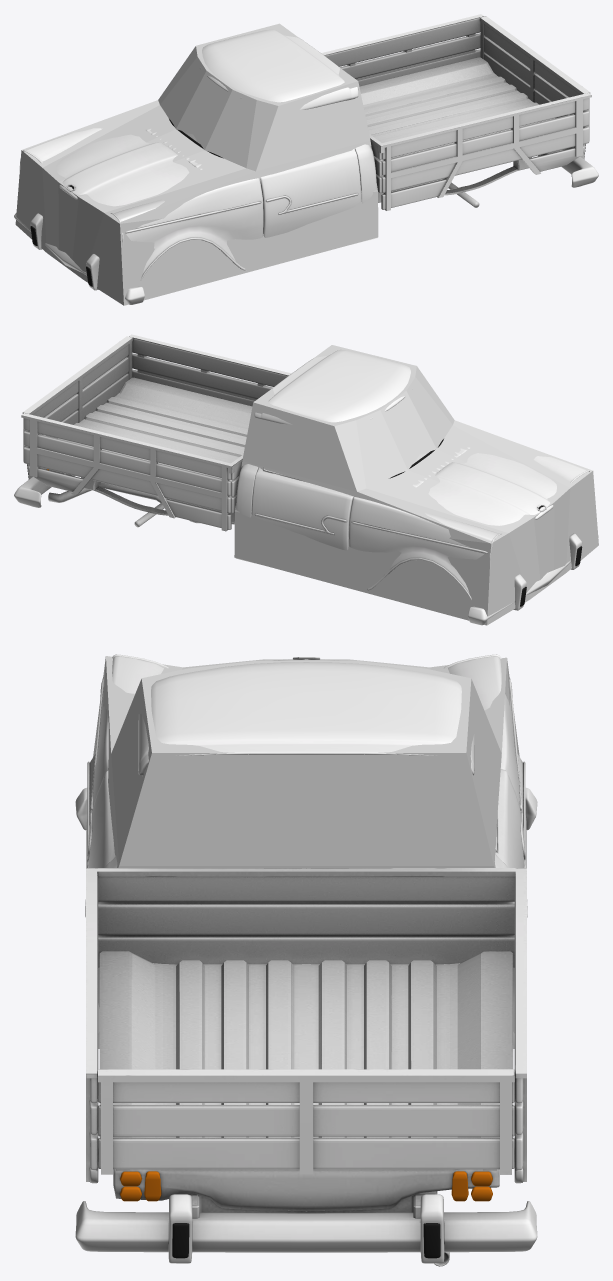
Rendered from Rastrojero08.glb.
The picture shows the model from 3 angles, top to bottom: view 1: azimuth 30°, elevation 25°; view 2: azimuth 150°, elevation 25°; view 3: azimuth 270°, elevation 25°; orthographic projection. The views are drawn at different scales.
Parts seen in each view (by area): view 1: Pintura_ao, COL_HULL_cabin, Madera_ao, Chapa_ao, COL_HULL_cabinTop, Metal_ao; view 2: COL_HULL_cabin, Pintura_ao, Madera_ao, Chapa_ao, COL_HULL_cabinTop, Metal_ao; view 3: Chapa_ao, Madera_ao, COL_HULL_cabinTop, Pintura_ao, Metal_ao, COL_HULL_cabin, Goma_ao, LucesReversa_ao.
Part boxes in pixels (x1=…): Pintura_ao: x1=26, y1=29, x2=376, y2=275; COL_HULL_cabin: x1=15, y1=100, x2=378, y2=305; Madera_ao: x1=325, y1=18, x2=589, y2=209; Chapa_ao: x1=321, y1=14, x2=591, y2=210; COL_HULL_cabinTop: x1=158, y1=23, x2=370, y2=171; Metal_ao: x1=14, y1=144, x2=598, y2=304; COL_HULL_cabin: x1=234, y1=420, x2=598, y2=625; Pintura_ao: x1=236, y1=349, x2=586, y2=594; Madera_ao: x1=23, y1=338, x2=287, y2=529; Chapa_ao: x1=21, y1=334, x2=291, y2=531; COL_HULL_cabinTop: x1=242, y1=345, x2=454, y2=491; Metal_ao: x1=14, y1=464, x2=598, y2=625; Chapa_ao: x1=86, y1=868, x2=526, y2=1266; Madera_ao: x1=89, y1=874, x2=523, y2=1183; COL_HULL_cabinTop: x1=111, y1=661, x2=501, y2=865; Pintura_ao: x1=88, y1=656, x2=524, y2=1048; Metal_ao: x1=75, y1=654, x2=537, y2=1263; COL_HULL_cabin: x1=86, y1=656, x2=526, y2=1033; Goma_ao: x1=172, y1=1223, x2=440, y2=1258; LucesReversa_ao: x1=144, y1=1171, x2=468, y2=1201.
Size of the model in its own units: 4.64 by 1.44 by 1.88.
Materials: 7 (4 with a texture image).
